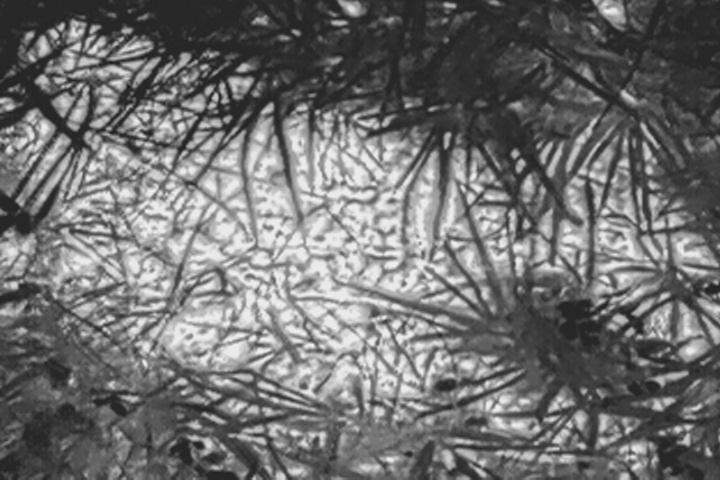landmine: (162, 156, 436, 367)
